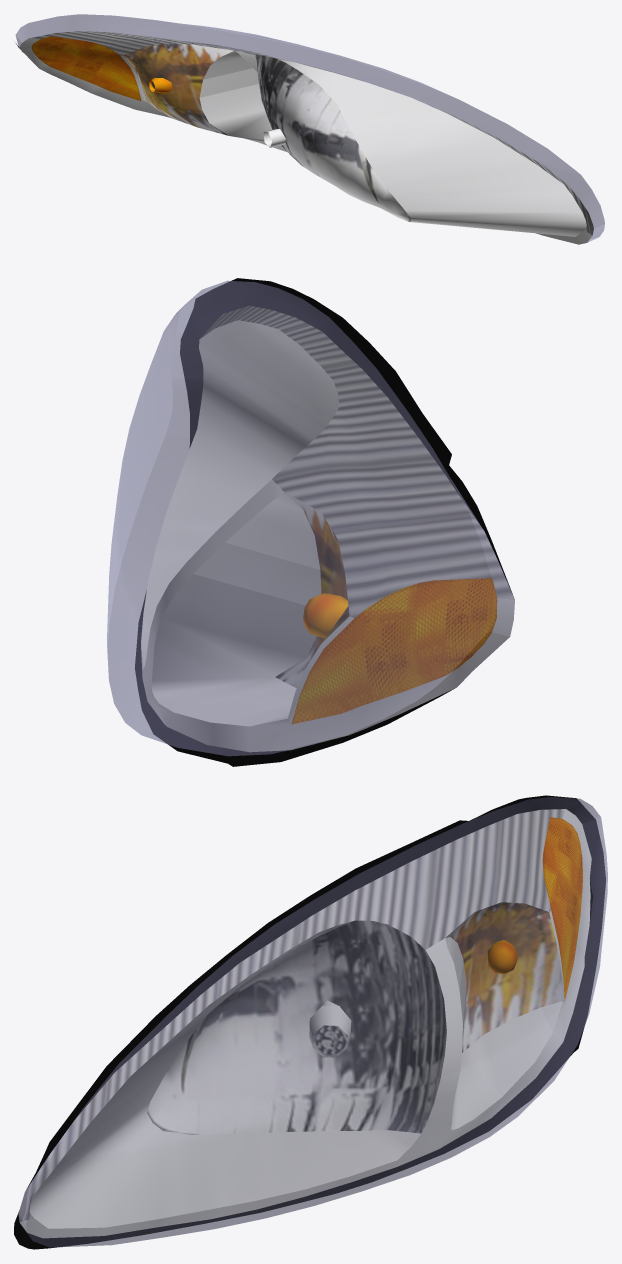
3 views of the same model, one above another, from view 1: azimuth 30°, elevation 25°; view 2: azimuth 150°, elevation 25°; view 3: azimuth 270°, elevation 25° (orthographic). The views are drawn at different scales.
Visible parts, largest first — view 1: P353_20_061B_L_1_N_P353_20_061B_L, P353_20_061B_L_P353_20_061B_L_2_DTaSI; view 2: P353_20_061B_L_P353_20_061B_L_2_DTaSI, P353_20_061B_L_1_N_P353_20_061B_L, P353_20_061B_L_P353_20_061B_L_3_D; view 3: P353_20_061B_L_P353_20_061B_L_2_DTaSI, P353_20_061B_L_1_N_P353_20_061B_L, P353_20_061B_L_P353_20_061B_L_3_D.
Boxes of the visible parts, box(x1,y1,x2,y2) form: P353_20_061B_L_1_N_P353_20_061B_L: box(19, 31, 593, 244); P353_20_061B_L_P353_20_061B_L_2_DTaSI: box(15, 14, 604, 242); P353_20_061B_L_P353_20_061B_L_2_DTaSI: box(107, 280, 514, 756); P353_20_061B_L_1_N_P353_20_061B_L: box(141, 305, 514, 752); P353_20_061B_L_P353_20_061B_L_3_D: box(135, 278, 512, 766); P353_20_061B_L_P353_20_061B_L_2_DTaSI: box(18, 797, 607, 1247); P353_20_061B_L_1_N_P353_20_061B_L: box(18, 809, 591, 1238); P353_20_061B_L_P353_20_061B_L_3_D: box(14, 795, 605, 1249).
Bounding box in the file's own units: 42.68 × 19.97 × 43.57.
